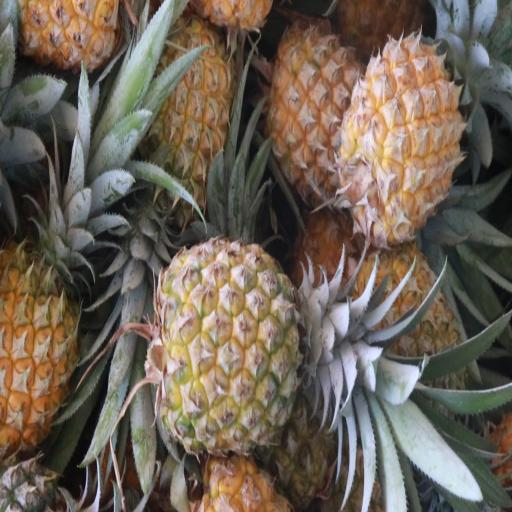------------------------------: (153, 244, 304, 450), (342, 248, 458, 418), (268, 21, 363, 201)
Pineapple - v8 v1: (341, 34, 461, 236), (148, 15, 232, 215), (0, 249, 80, 451)
